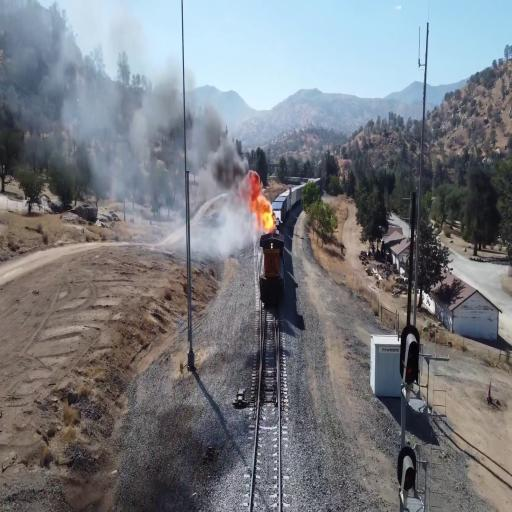fire: (248, 174, 277, 230)
smoke: (149, 64, 200, 144), (197, 130, 244, 194)
